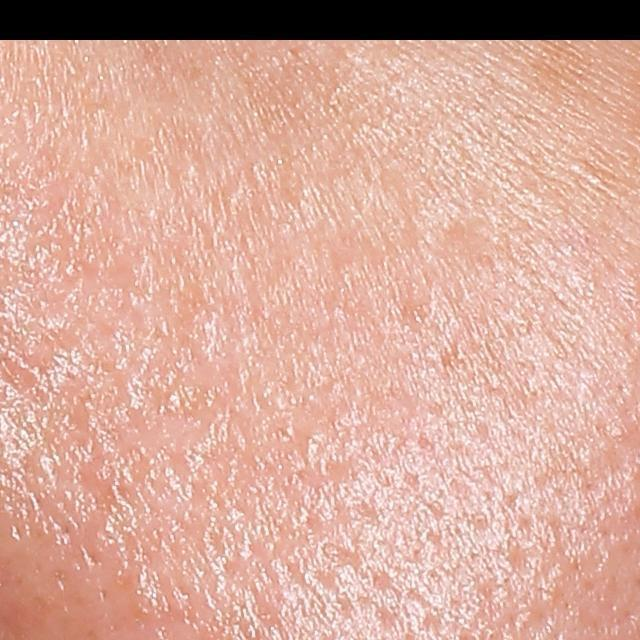melasma: (527, 35, 586, 102)
